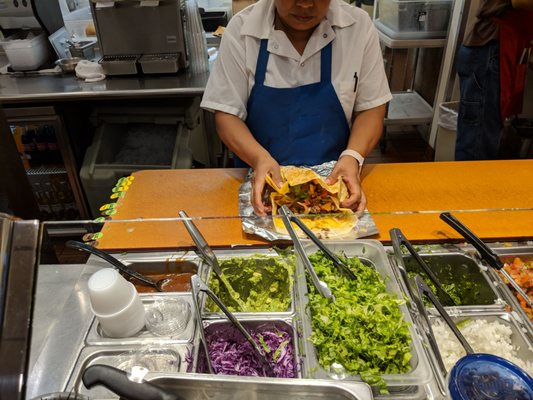sandwich: (440, 211, 533, 313)
